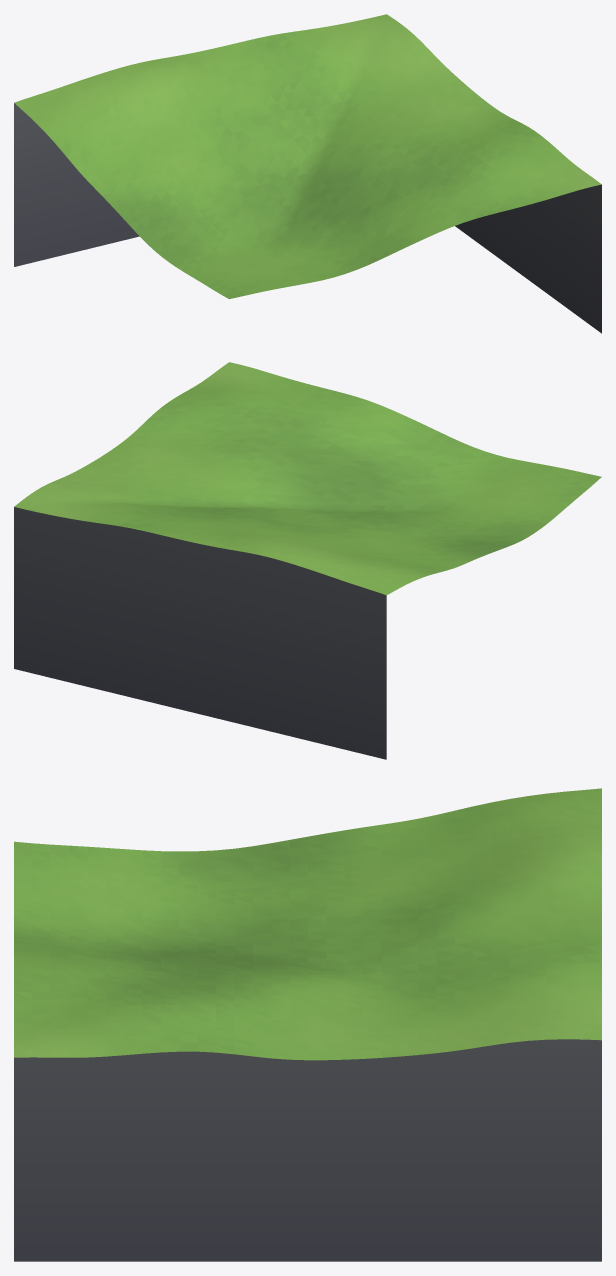
The model's file is terrain_r5_c5.glb.
3 views of the same model, one above another, from view 1: azimuth 30°, elevation 25°; view 2: azimuth 150°, elevation 25°; view 3: azimuth 270°, elevation 25° (orthographic). The views are drawn at different scales.
Visible parts, largest first — view 1: terrain_r5_c5; view 2: terrain_r5_c5; view 3: terrain_r5_c5.
Part boxes in pixels (<box>): terrain_r5_c5: <box>14,14,601,333</box>; terrain_r5_c5: <box>14,362,601,759</box>; terrain_r5_c5: <box>14,788,601,1261</box>.
Bounding box in the file's own units: 128 × 57.11 × 128.
1 material, 1 textured.
